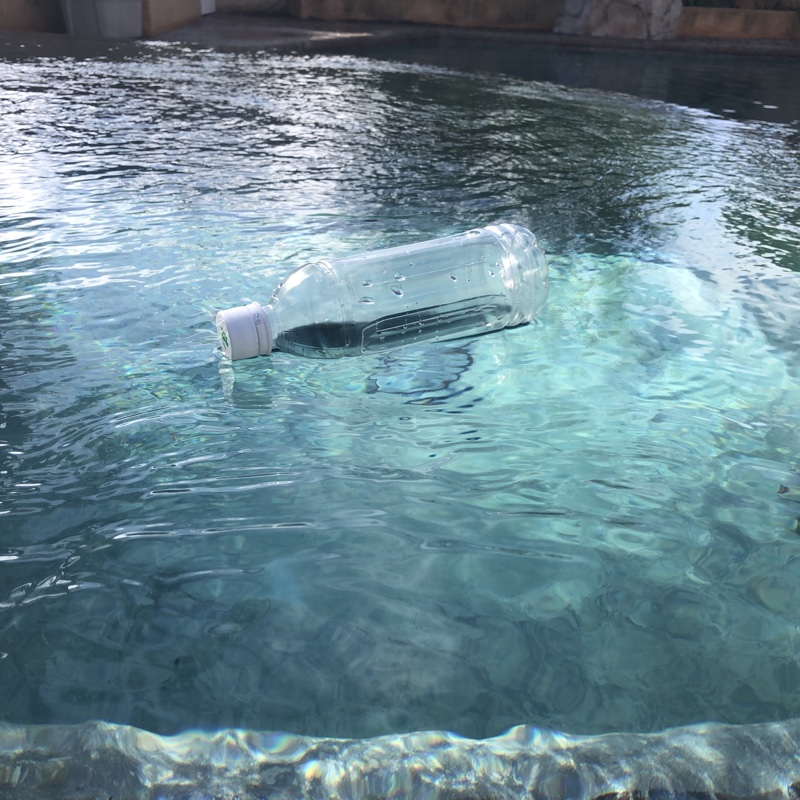Plastic Bottle: (213, 219, 552, 365)
